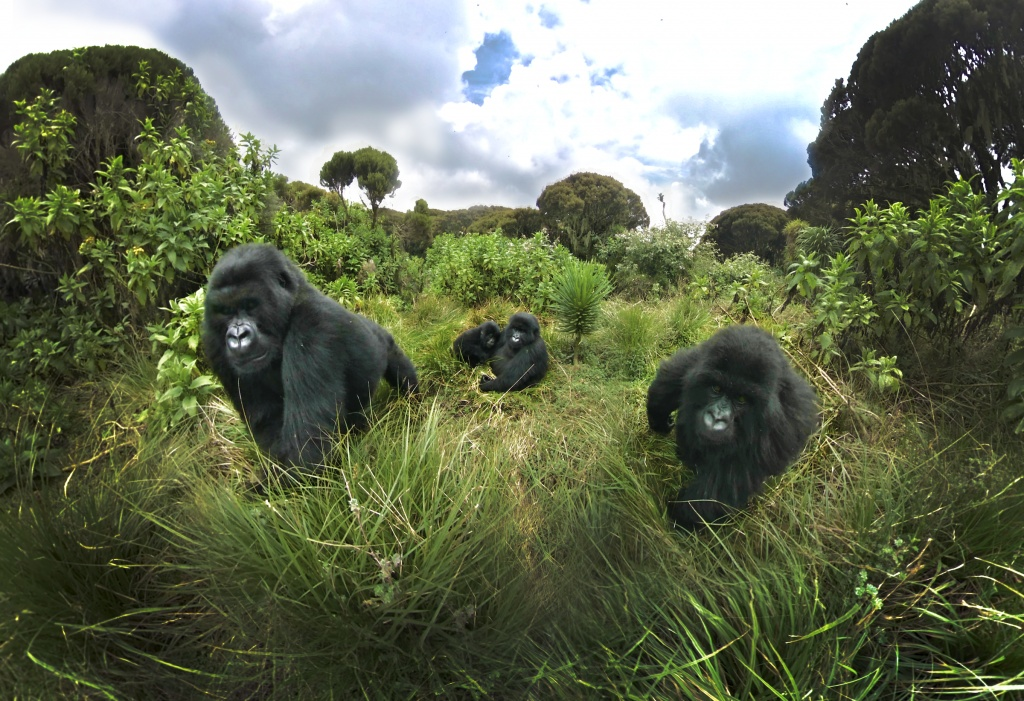gorilla: (197, 238, 432, 500), (642, 317, 829, 529), (493, 312, 552, 392), (449, 313, 503, 364)
